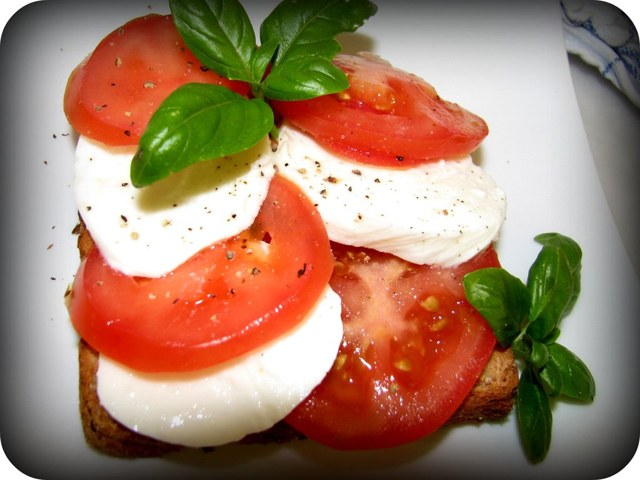tomato: (68, 173, 335, 374), (283, 239, 501, 449), (261, 51, 489, 167), (63, 13, 250, 147)
